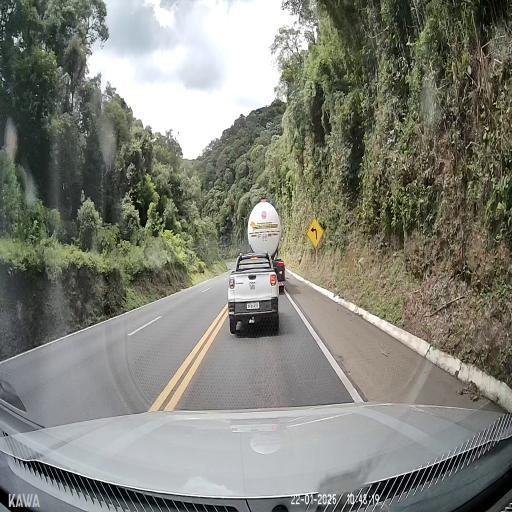A-1a: (306, 218, 324, 247)
